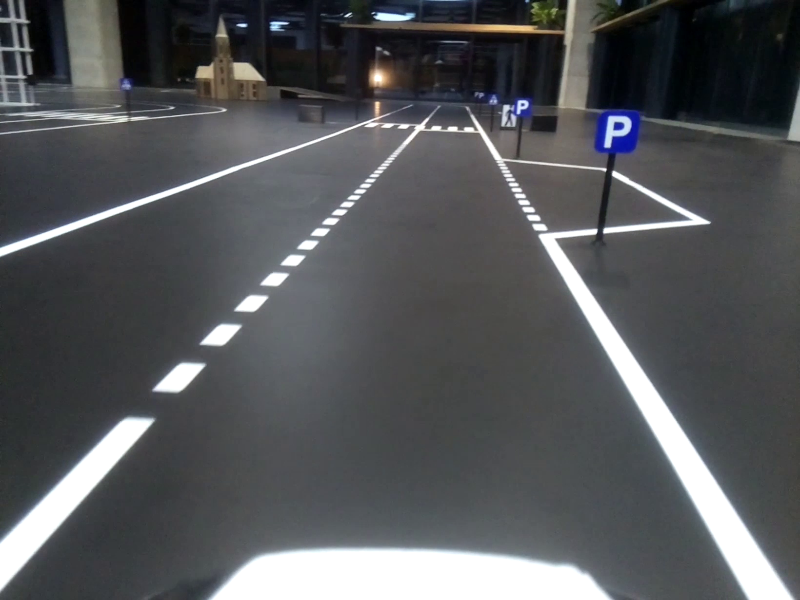park: (595, 109, 640, 153)
